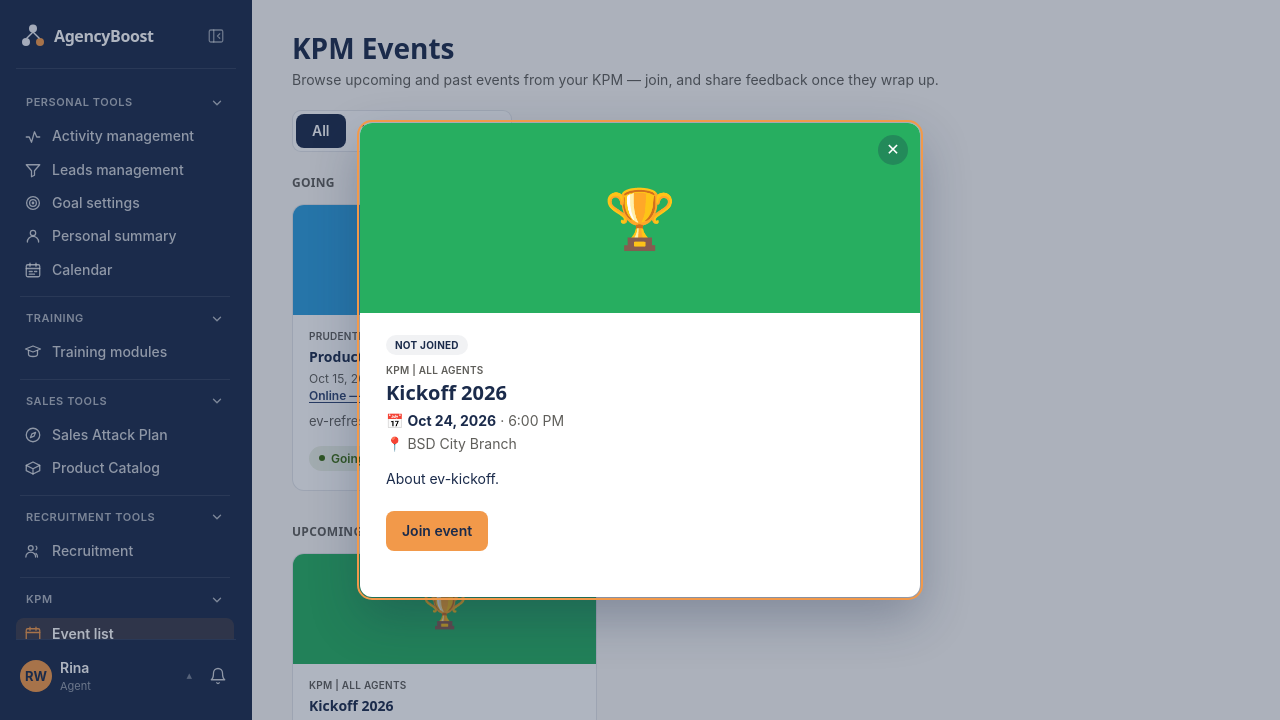
it: /events, KPM Events (P18.5-T5, T6) › the modal (T5 AC-5) › P18.5-T5 AC-5 after a refusal the card behind takes the re-read: it moves to Past
The width and height of the screenshot is (1280, 720).
expect the heading "Kickoff 2026" below "ev-refresh's line." is shown: met, box [309,696,394,715]
Click the button "Join event". click: click(437, 531)
box: [386,511,488,551]
(page scrolled)
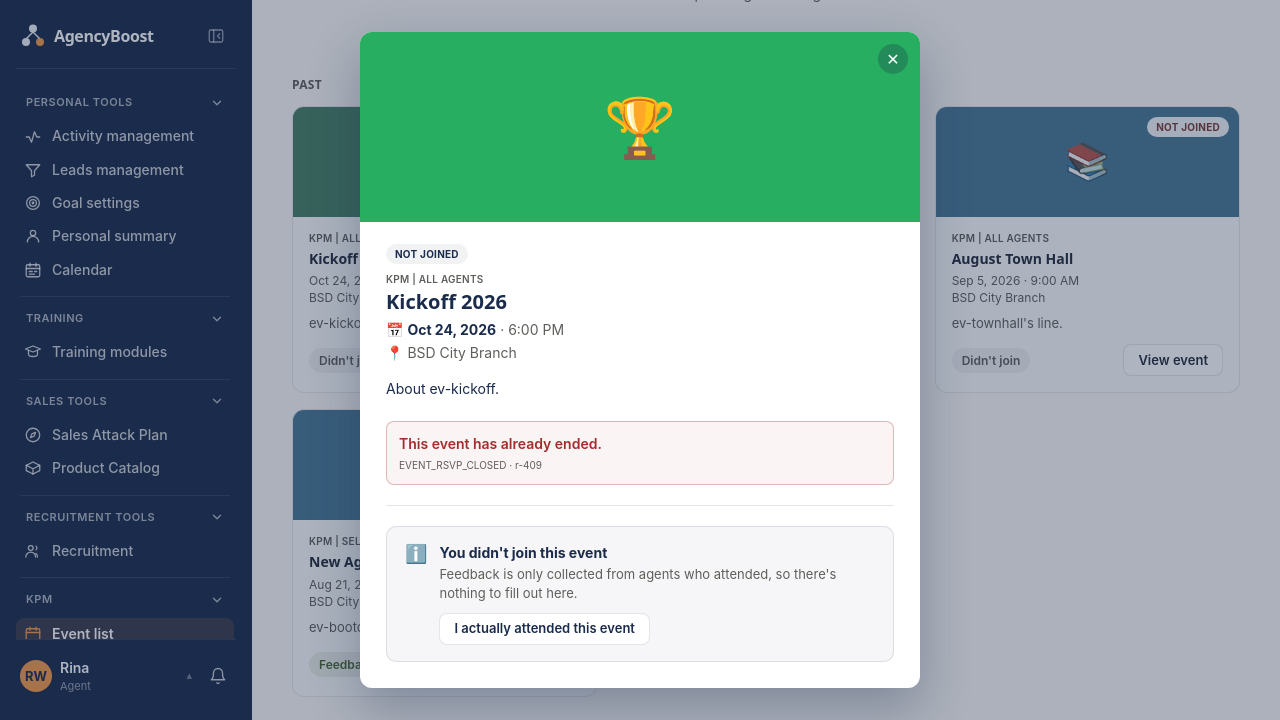
expect the heading "Kickoff 2026" next to "PRULink briefing" is shown: met, box [309,249,394,268]
expect the text "You didn't join this event" is shown: met, box [440,544,607,561]
expect the text "Didn't join" is shown: met, box [309,348,388,373]
